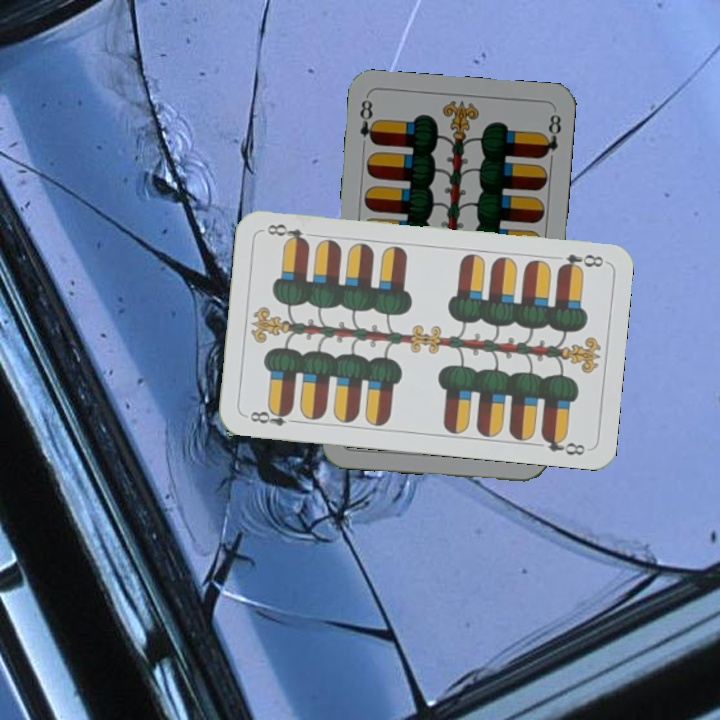E8: (245, 404, 301, 428), (355, 96, 380, 148), (555, 250, 606, 274)
